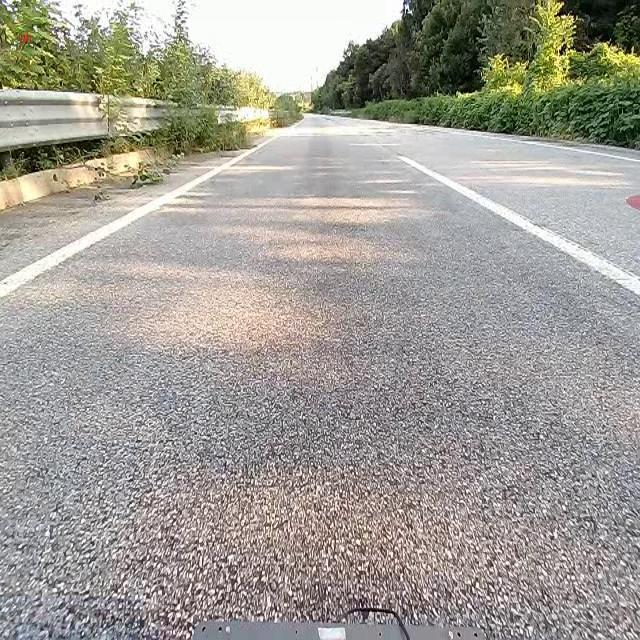Lane: (0, 125, 285, 303), (0, 138, 271, 299), (398, 150, 638, 297), (399, 156, 639, 296)
